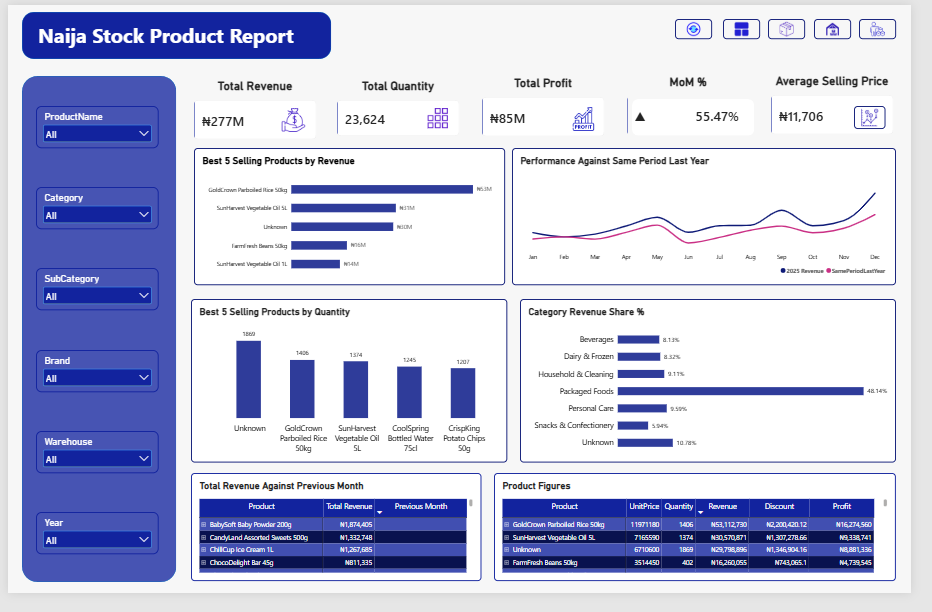

Layout of this report page (visuals, bound fields, positions):
{"tool":"powerbi","page":{"name":"Product Page","canvas":[1920,1250],"ordinal":1},"visuals":[{"type":"clusteredBarChart","title":"Category Revenue Share %","fields":{"Category":["Dim__Product.Category"],"Y":["Product_Measure_Table.Category Revenue Share %"]},"box":[1090,625,800,348.3],"z":0},{"type":"clusteredBarChart","title":"Best 5 Selling Products by Revenue","fields":{"Category":["Dim__Product.ProductName"],"Y":["Product_Measure_Table.The Best 5 Selling Products"]},"box":[395,303.3,661.7,291.7],"z":1000},{"type":"clusteredColumnChart","title":"Best 5 Selling Products by Quantity","fields":{"Category":["Dim__Product.ProductName"],"Y":["Product_Measure_Table.Best SellingProducts by Quantity"]},"box":[390,625,673.3,348.3],"z":2000},{"type":"image","box":[1617.9,30,79.3,43.3],"z":3000},{"type":"shape","box":[30,15,657.9,100],"z":4000},{"type":"image","box":[1714.3,30,79.3,43.3],"z":5000},{"type":"shape","box":[30,150,328.3,1076.7],"z":6000},{"type":"image","box":[1810.7,30,79.3,43.3],"z":7000},{"type":"textbox","box":[63.3,33.3,571.2,63.5],"z":8000},{"type":"image","box":[1521.5,30,79.3,43.3],"z":9000},{"type":"image","box":[1420,30,79.3,43.3],"z":10000},{"type":"cardVisual","title":"Total Quantity","fields":{"Data":["Overview_Measure_Table.Total Quantity"]},"box":[700,156.7,260,121.7],"z":11000},{"type":"cardVisual","title":"Total Profit","fields":{"Data":["Overview_Measure_Table.Total Profit"]},"box":[1008.3,150,260,128],"z":12000},{"type":"cardVisual","title":"Average Selling Price","fields":{"Data":["Product_Measure_Table.Average Selling Price"]},"box":[1623.3,146.7,260,128],"z":13000},{"type":"cardVisual","title":"Total Revenue","fields":{"Data":["Overview_Measure_Table.Total Revenue"]},"box":[395,156.7,260,128.3],"z":14000},{"type":"pivotTable","title":"Product Figures","fields":{"Rows":["Dim__Product.ProductName","Dim__Product.Category","Dim__Product.SubCategory","Dim__Product.Brand"],"Values":["Sum(Fact_Sales.UnitPrice)","Overview_Measure_Table.Total Quantity","Overview_Measure_Table.Total Revenue","Overview_Measure_Table.Total Discount","Overview_Measure_Table.Total Profit"]},"box":[1035,996.7,855,230],"z":15000},{"type":"lineChart","title":"Performance Against Same Period Last Year","fields":{"Category":["Dim_Date.Month Name"],"Y":["Overview_Measure_Table.2025 Revenue","Overview_Measure_Table.SamePeriodLastYear"]},"box":[1073.3,303.3,816.7,291.7],"z":16000},{"type":"shape","box":[1328.3,200,260,78.3],"z":17000},{"type":"cardVisual","title":"MoM %","fields":{"Data":["Overview_Measure_Table.MoM Icon","Overview_Measure_Table.Latest Month MoM %"]},"box":[1316.7,148.3,260,128],"z":18000},{"type":"pivotTable","title":"Total Revenue Against Previous Month","fields":{"Rows":["Dim__Product.ProductName","Dim_Date.Month Name"],"Values":["Overview_Measure_Table.Total Revenue","Overview_Measure_Table.Previous Month"]},"box":[390,996.7,618.3,230],"z":19000},{"type":"image","box":[881.7,220,66.5,42.6],"z":20000},{"type":"image","box":[578.3,218.3,57.2,50.5],"z":21000},{"type":"image","box":[1195,216.7,57.2,50.5],"z":22000},{"type":"image","box":[1800,215,66.5,49.2],"z":23000},{"type":"slicer","fields":{"Values":["Dim__Product.ProductName"]},"box":[60.6,215,261.2,90.5],"z":24000},{"type":"slicer","fields":{"Values":["Dim__Product.Category"]},"box":[60.6,387.7,261.2,90.5],"z":25000},{"type":"slicer","fields":{"Values":["Dim__Product.SubCategory"]},"box":[60.6,560.3,261.2,90.5],"z":26000},{"type":"slicer","fields":{"Values":["Dim__Product.Brand"]},"box":[60.6,733,261.2,90.5],"z":27000},{"type":"slicer","fields":{"Values":["Dim_Warehouse.WarehouseName"]},"box":[60.6,905.7,261.2,90.5],"z":28000},{"type":"slicer","fields":{"Values":["Dim_Date.Year"]},"box":[60.6,1078.3,261.2,90.5],"z":29000}]}

Visuals, with their boxes in screenshot pixels (x1, y1, x2, y2), scaled from the page's 1920x1250 canvas onto the 932x612 screenshot:
"Category Revenue Share %" clusteredBarChart: x1=529 y1=306 x2=917 y2=477
"Best 5 Selling Products by Revenue" clusteredBarChart: x1=192 y1=148 x2=513 y2=291
"Best 5 Selling Products by Quantity" clusteredColumnChart: x1=189 y1=306 x2=516 y2=477
image: x1=785 y1=15 x2=824 y2=36
shape: x1=15 y1=7 x2=334 y2=56
image: x1=832 y1=15 x2=871 y2=36
shape: x1=15 y1=73 x2=174 y2=601
image: x1=879 y1=15 x2=917 y2=36
textbox: x1=31 y1=16 x2=308 y2=47
image: x1=739 y1=15 x2=777 y2=36
image: x1=689 y1=15 x2=728 y2=36
"Total Quantity" cardVisual: x1=340 y1=77 x2=466 y2=136
"Total Profit" cardVisual: x1=489 y1=73 x2=616 y2=136
"Average Selling Price" cardVisual: x1=788 y1=72 x2=914 y2=134
"Total Revenue" cardVisual: x1=192 y1=77 x2=318 y2=140
"Product Figures" pivotTable: x1=502 y1=488 x2=917 y2=601
"Performance Against Same Period Last Year" lineChart: x1=521 y1=148 x2=917 y2=291
shape: x1=645 y1=98 x2=771 y2=136
"MoM %" cardVisual: x1=639 y1=73 x2=765 y2=135
"Total Revenue Against Previous Month" pivotTable: x1=189 y1=488 x2=489 y2=601
image: x1=428 y1=108 x2=460 y2=129
image: x1=281 y1=107 x2=308 y2=132
image: x1=580 y1=106 x2=608 y2=131
image: x1=874 y1=105 x2=906 y2=129
slicer - Dim__Product.ProductName: x1=29 y1=105 x2=156 y2=150
slicer - Dim__Product.Category: x1=29 y1=190 x2=156 y2=234
slicer - Dim__Product.SubCategory: x1=29 y1=274 x2=156 y2=319
slicer - Dim__Product.Brand: x1=29 y1=359 x2=156 y2=403
slicer - Dim_Warehouse.WarehouseName: x1=29 y1=443 x2=156 y2=488
slicer - Dim_Date.Year: x1=29 y1=528 x2=156 y2=572
